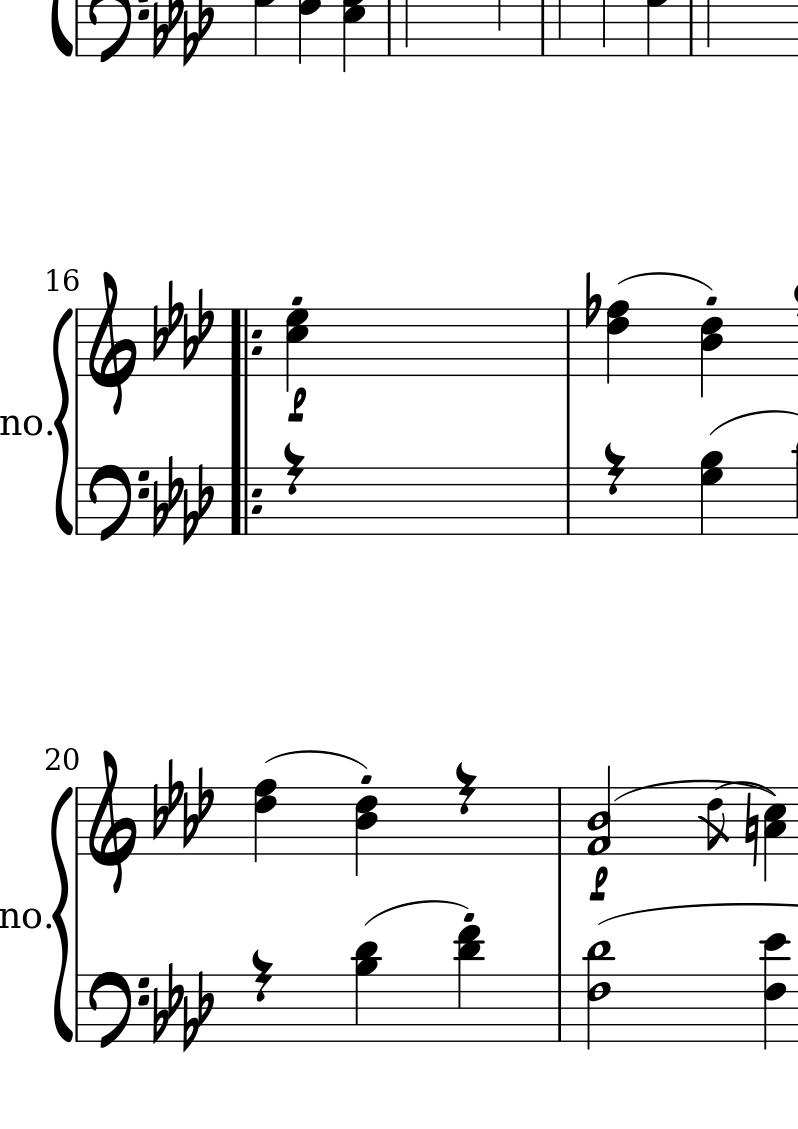0: (61, 744, 79, 773)
1: (45, 266, 59, 294)
2: (43, 746, 61, 771)
2_1_4: (585, 765, 613, 856)
2_6_11: (581, 939, 617, 1050)
4_11_13: (453, 924, 486, 1043)
4_3_5: (762, 786, 787, 884)
4_4_6: (700, 308, 724, 399), (354, 787, 377, 878)
4_5_7: (285, 308, 310, 392)
4_6_12: (758, 931, 791, 1052)
4_6_8: (253, 778, 279, 862), (605, 299, 630, 386)
4_7_9: (699, 451, 724, 537)
4_9_11: (351, 941, 381, 1044)
6: (61, 266, 79, 294)
A_F: (150, 960, 213, 1054), (150, 757, 213, 850), (152, 452, 215, 544), (152, 281, 214, 370)
Acciaccature: (703, 786, 732, 855)
Brace: (51, 779, 75, 1045), (54, 310, 75, 531)
Fclef: (87, 462, 148, 545), (88, 969, 148, 1050), (87, 1, 150, 65)
Flat: (583, 269, 601, 330)
Gclef: (86, 270, 136, 416), (86, 748, 135, 894)
LeftRepeatSign: (225, 465, 265, 536), (226, 306, 264, 376)
Natural: (742, 790, 760, 873)
Rests4: (453, 762, 478, 817), (602, 441, 626, 498), (282, 442, 305, 497), (251, 949, 273, 1004)
Single_barline: (559, 467, 576, 534), (560, 309, 577, 375), (551, 787, 567, 854), (553, 974, 568, 1041), (71, 468, 84, 533), (71, 975, 84, 1040), (72, 787, 84, 855), (72, 309, 84, 376)
Slur: (613, 779, 775, 802), (362, 897, 467, 927), (266, 749, 366, 771), (619, 270, 710, 290)
p: (286, 386, 308, 425), (588, 864, 610, 903)
